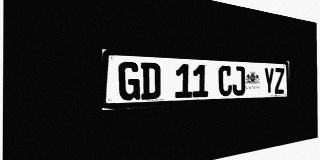1: (175, 64, 192, 98), (192, 64, 208, 97)
C: (218, 65, 232, 96)
D: (141, 62, 160, 100)
G: (118, 61, 140, 101)
J: (232, 66, 245, 96)
Y: (264, 67, 274, 94)
Z: (274, 68, 284, 94)
